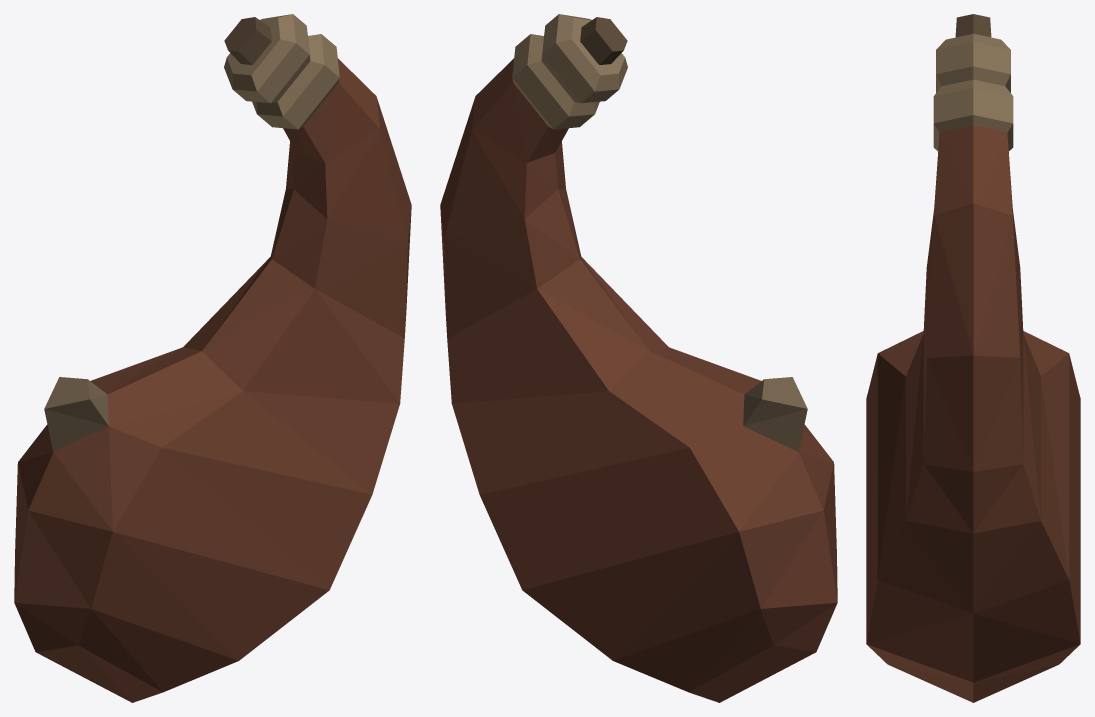
The model's file is waterskin.glb.
The picture shows the model from 3 angles, left to right: view 1: azimuth 30°, elevation 25°; view 2: azimuth 150°, elevation 25°; view 3: azimuth 270°, elevation 25°; orthographic projection. The views are drawn at different scales.
Visible parts, largest first — view 1: SM_Item_Waterskin_01; view 2: SM_Item_Waterskin_01; view 3: SM_Item_Waterskin_01.
Boxes of the visible parts, x1,y1,x2,y2 form: SM_Item_Waterskin_01: [14, 14, 411, 702]; SM_Item_Waterskin_01: [440, 14, 837, 702]; SM_Item_Waterskin_01: [866, 14, 1080, 702].
Bounding box in the file's own units: 13.73 × 21.66 × 5.69.
1 material, 1 textured.
